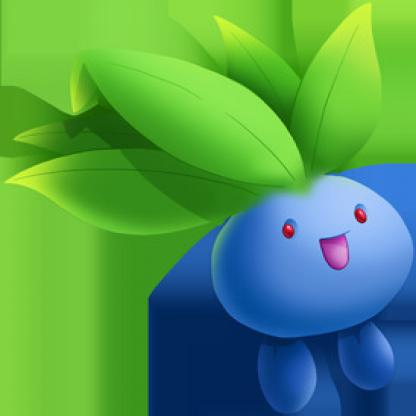Oddish: (23, 36, 416, 409)
